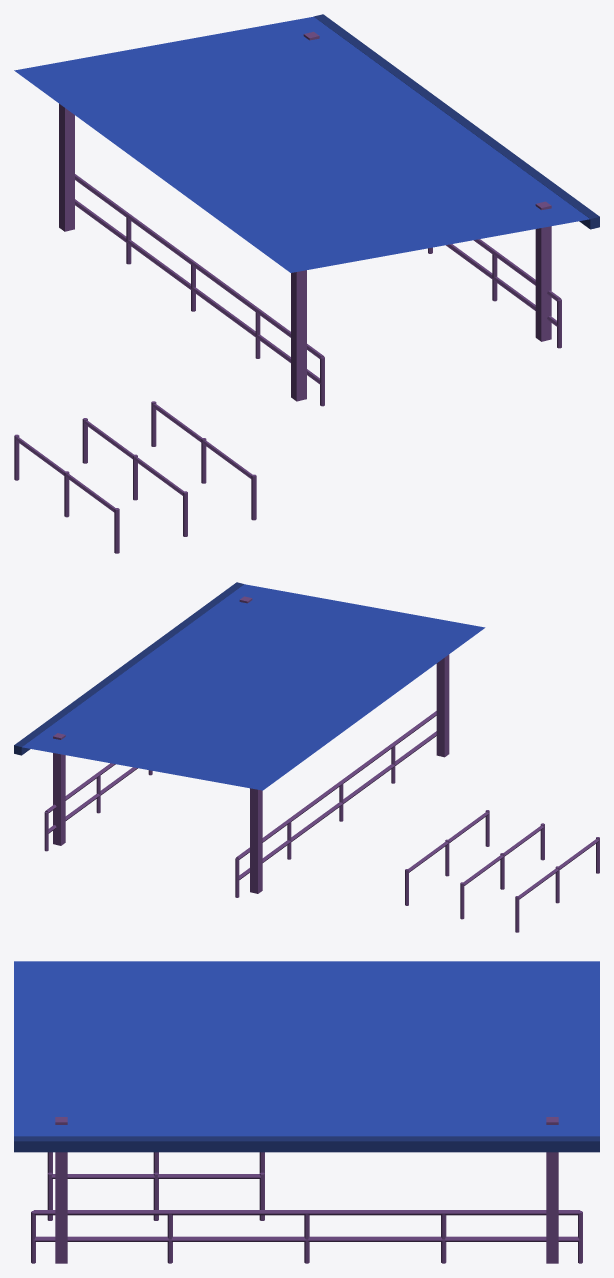
The model's file is station_roof.glb.
3 views of the same model, one above another, from view 1: azimuth 30°, elevation 25°; view 2: azimuth 150°, elevation 25°; view 3: azimuth 270°, elevation 25° (orthographic). The views are drawn at different scales.
Parts seen in each view (by area): view 1: station_roof; view 2: station_roof; view 3: station_roof.
Boxes of the visible parts, x1,y1,x2,y2 form: station_roof: [14, 14, 599, 553]; station_roof: [14, 582, 599, 932]; station_roof: [14, 961, 599, 1263].
Size of the model in its own units: 10.25 by 5.32 by 10.5.
